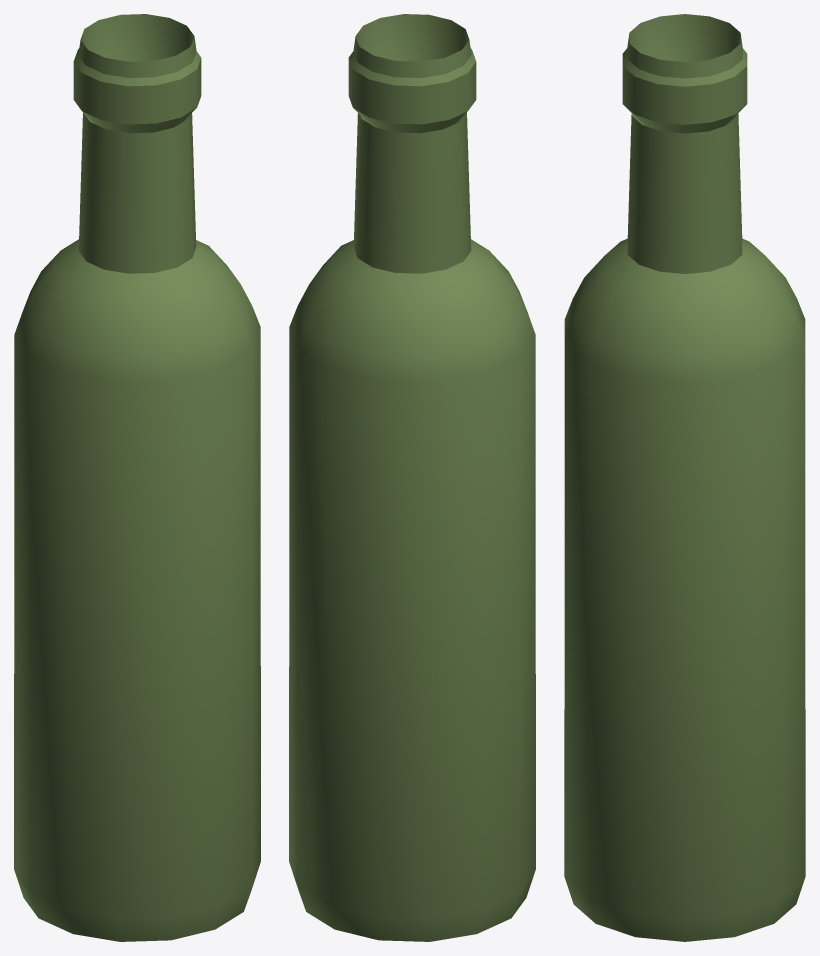
The model's file is bottle.fbx.
The picture shows the model from 3 angles, left to right: view 1: azimuth 30°, elevation 25°; view 2: azimuth 150°, elevation 25°; view 3: azimuth 270°, elevation 25°; orthographic projection.
Parts seen in each view (by area): view 1: bottle; view 2: bottle; view 3: bottle.
Boxes of the visible parts, x1,y1,x2,y2 form: bottle: (14, 14, 260, 941); bottle: (289, 14, 535, 941); bottle: (564, 14, 805, 941).
Size of the model in its own units: 2.53 by 2.47 by 9.66.
